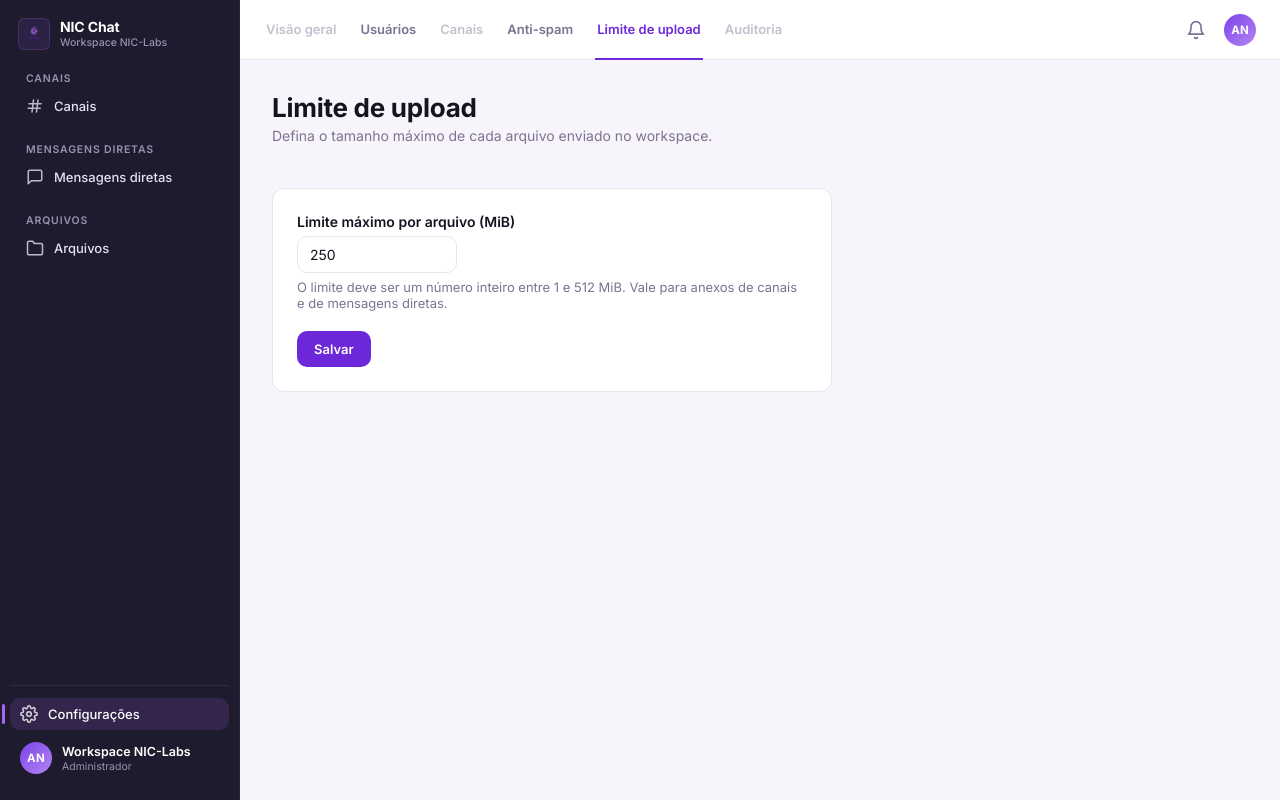
it: AdminUploadLimitPage › saves the value converted to bytes
Replace the text in the number field labelled "Limite máximo por arquivo (MiB)" with "100" at (377, 254), box [297,236,457,273]
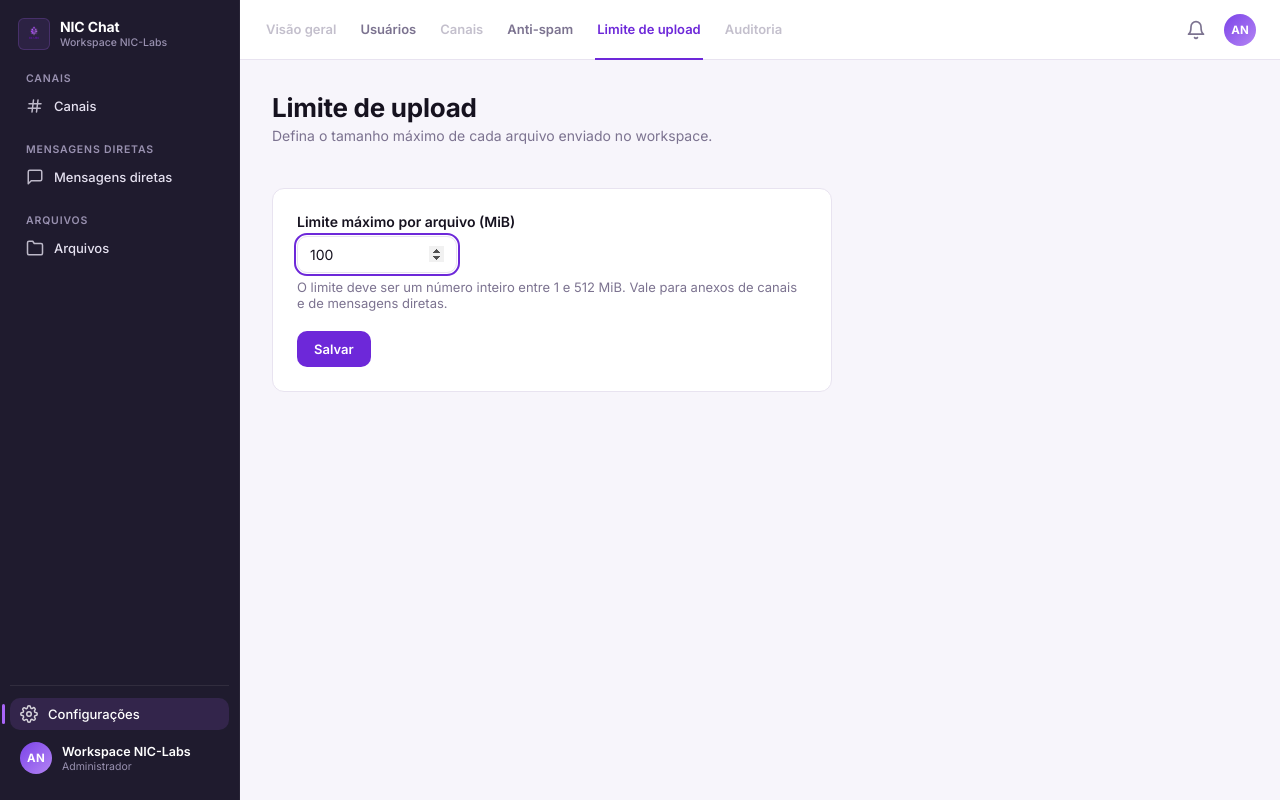
Click the button "Salvar" at (334, 349), box [297,331,371,367]
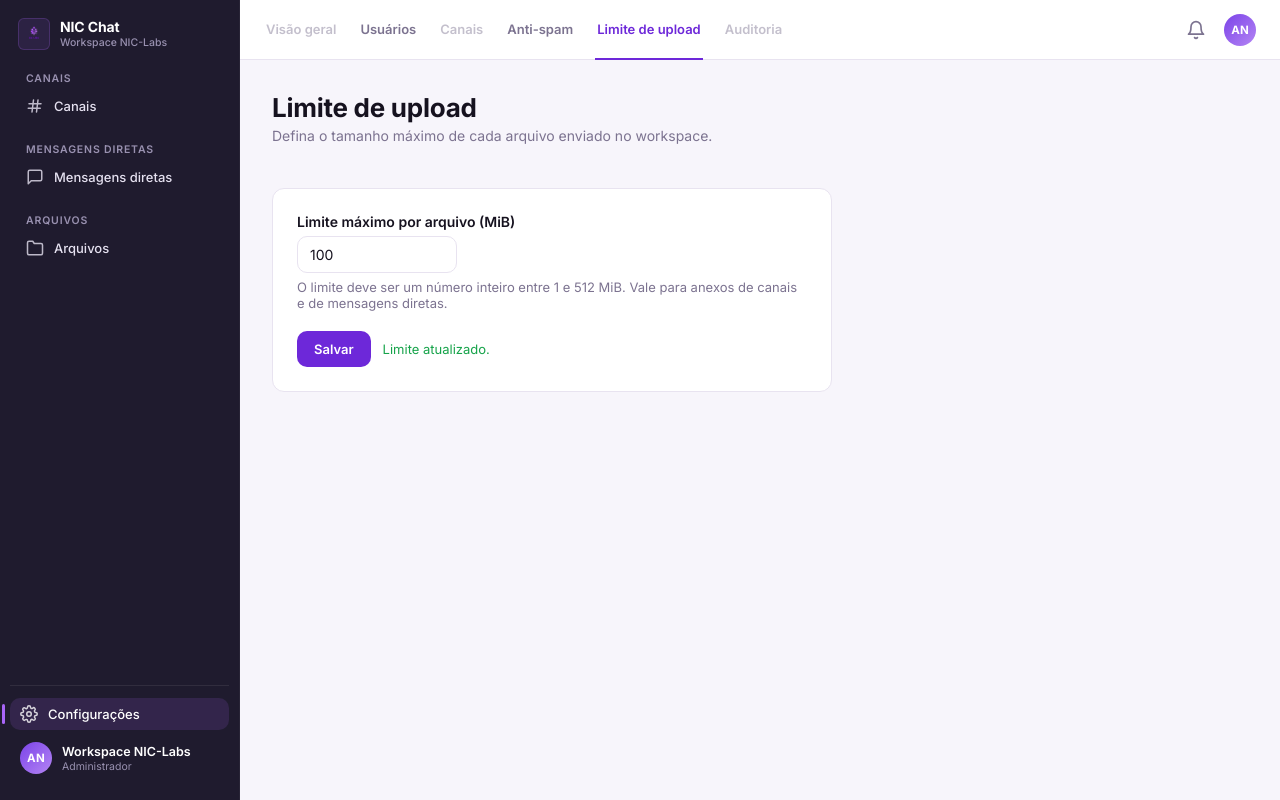
expect the text "Limite atualizado." is shown: met, box [383,341,490,357]
